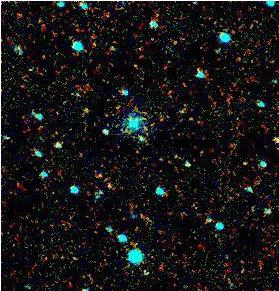star: (96, 175, 126, 205)
